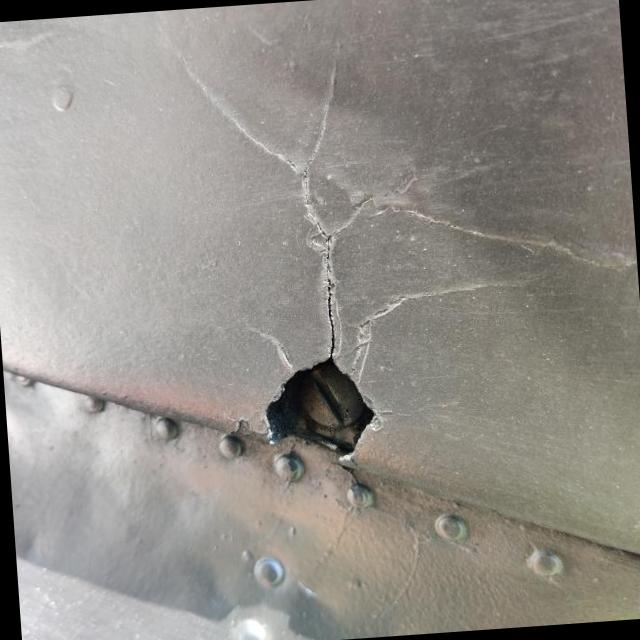Crack: (265, 220, 375, 453)
